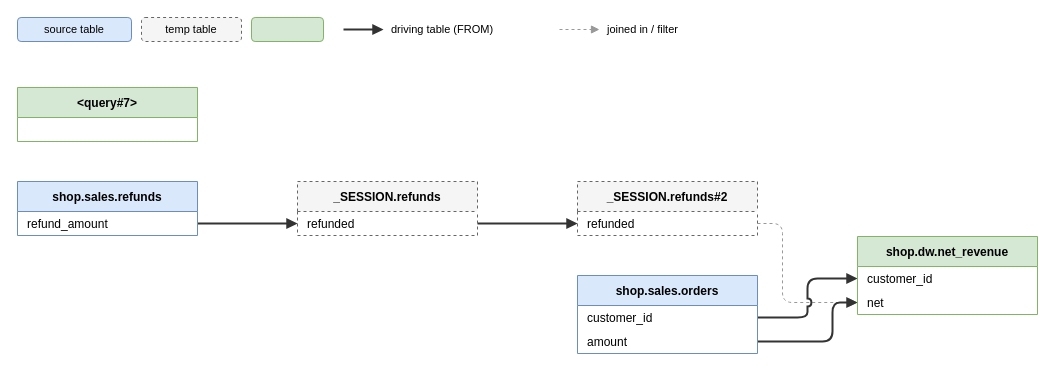
The diagram is 1055 pixels wide and 371 high, and some of its shapes have lost their labels. The centre of each missing label's shape, as x and y in pixels:
"failure" goes at [107,114].
"target" goes at [287,29].
